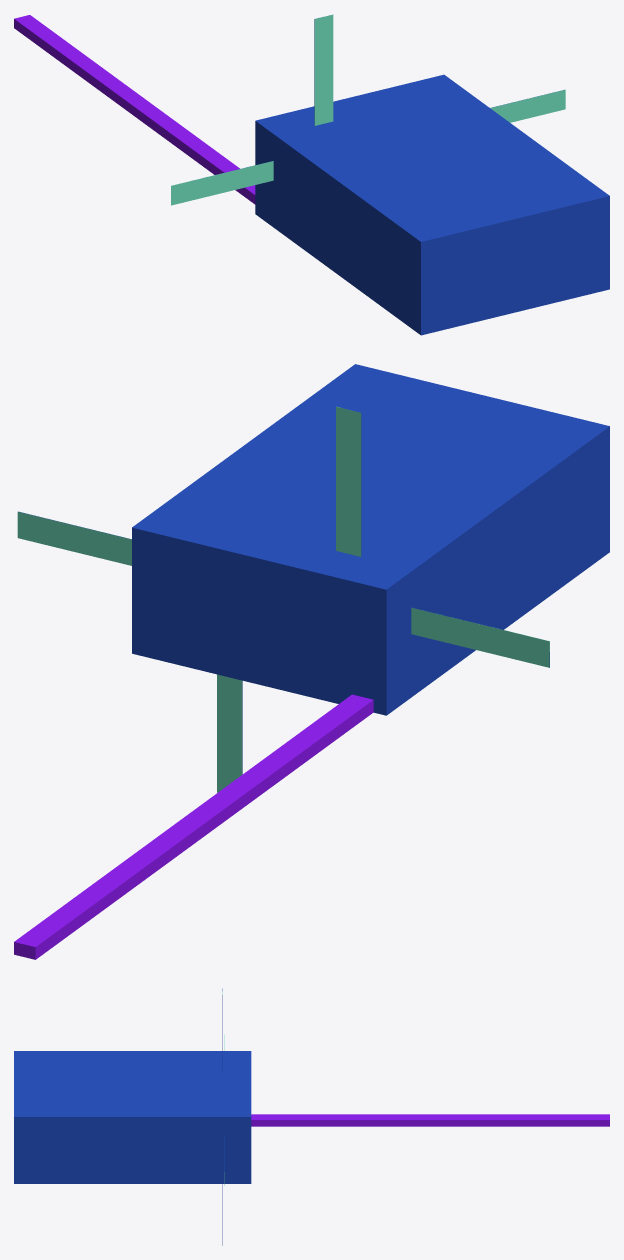
The model's file is Dellingr.obj.
3 renders of one model, top to bottom at view 1: azimuth 30°, elevation 25°; view 2: azimuth 150°, elevation 25°; view 3: azimuth 270°, elevation 25°, orthographic. The views are drawn at different scales.
Visible parts, largest first — view 1: Dellingr_simplified_stp_SOLAR_CELL, Dellingr_simplified_stp_SILVER_KAPTON2, Dellingr_simplified_stp_SILVER_KAPTON; view 2: Dellingr_simplified_stp_SOLAR_CELL, Dellingr_simplified_stp_SILVER_KAPTON, Dellingr_simplified_stp_SILVER_KAPTON2; view 3: Dellingr_simplified_stp_SOLAR_CELL, Dellingr_simplified_stp_SILVER_KAPTON2.
Boxes of the visible parts, x1,y1,x2,y2 form: Dellingr_simplified_stp_SOLAR_CELL: [235, 18, 609, 335]; Dellingr_simplified_stp_SILVER_KAPTON2: [14, 15, 255, 204]; Dellingr_simplified_stp_SILVER_KAPTON: [171, 14, 565, 205]; Dellingr_simplified_stp_SOLAR_CELL: [19, 364, 609, 774]; Dellingr_simplified_stp_SILVER_KAPTON: [17, 406, 549, 792]; Dellingr_simplified_stp_SILVER_KAPTON2: [14, 694, 373, 959]; Dellingr_simplified_stp_SOLAR_CELL: [14, 988, 251, 1245]; Dellingr_simplified_stp_SILVER_KAPTON2: [251, 1114, 609, 1126].
Bounding box in the file's own units: 0.4995 × 0.3725 × 0.9134.
